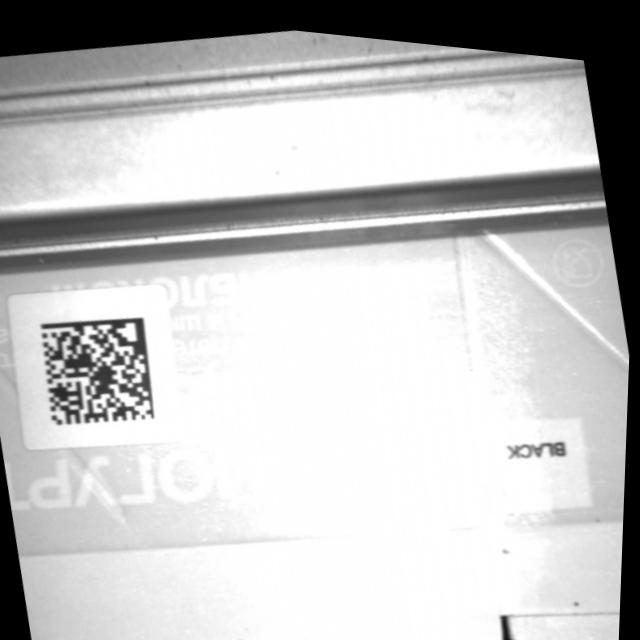datamatrix: (35, 303, 167, 436)
